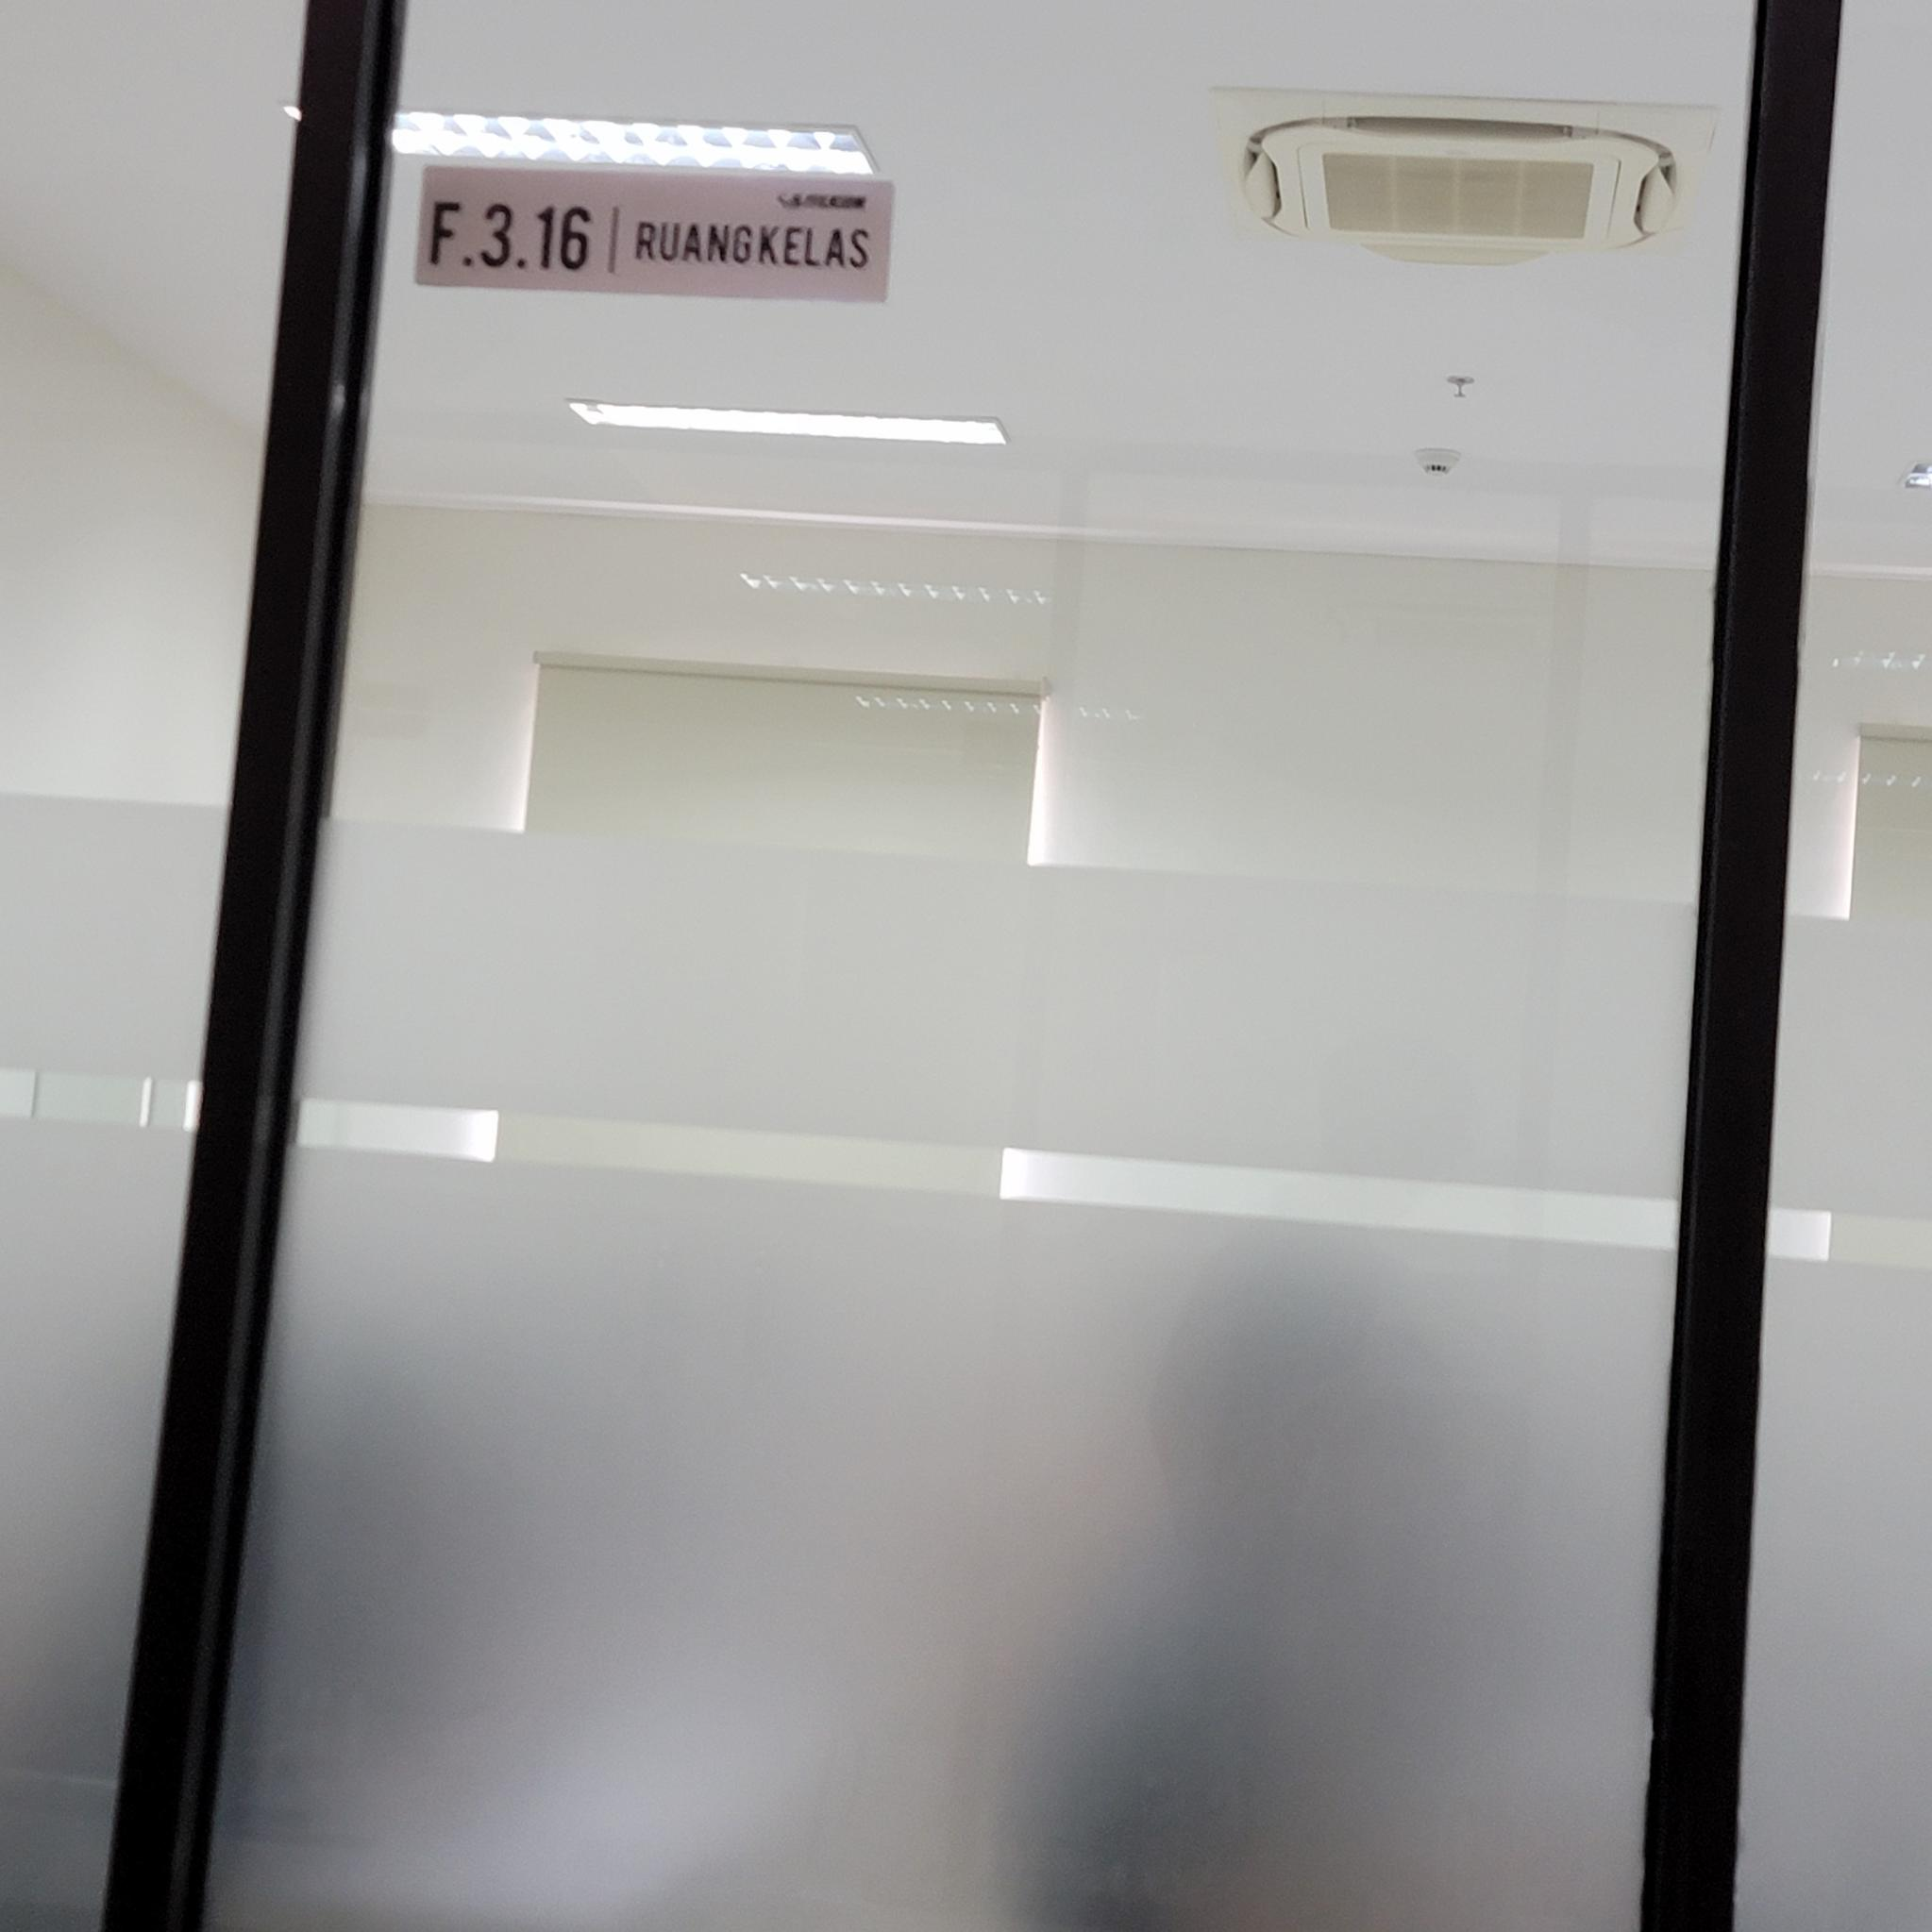plate: (412, 163, 893, 308)
